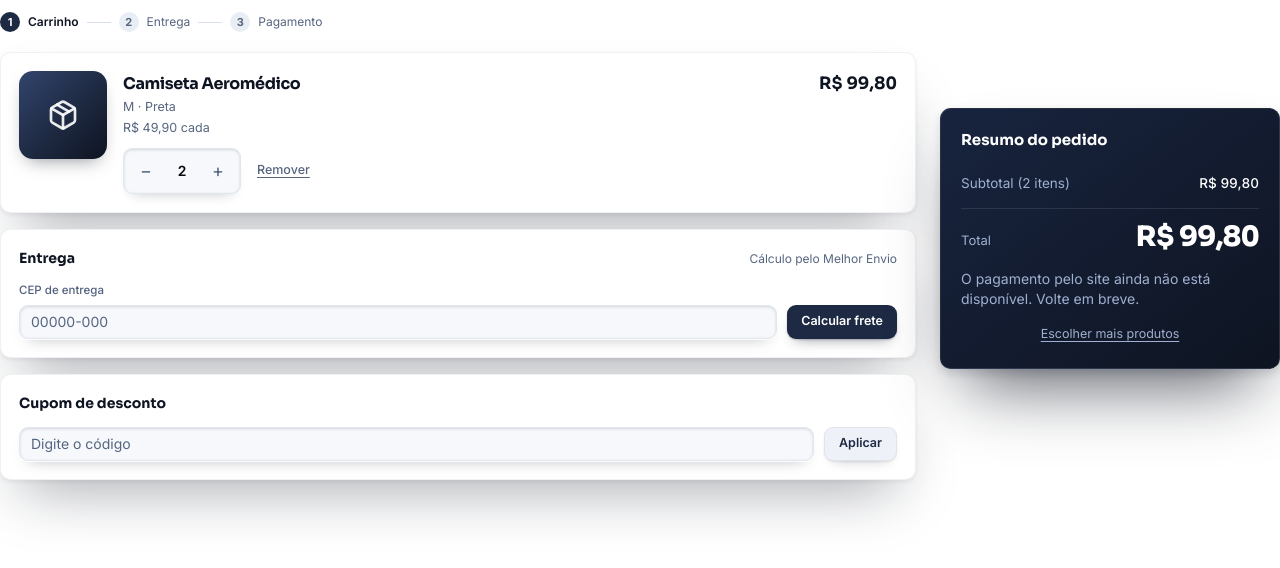
Scenario: CartView com cupom › há campo de cupom e botão Aplicar quando o carrinho tem itens
The width and height of the screenshot is (1280, 568).
Expected: the link "Camiseta Aeromédico" is shown, x1=123 y1=73 x2=300 y2=94
Expected: the field named "Cupom de desconto" is shown, x1=19 y1=427 x2=814 y2=461
Click the button "Aplicar": (860,444) x1=824 y1=427 x2=897 y2=461
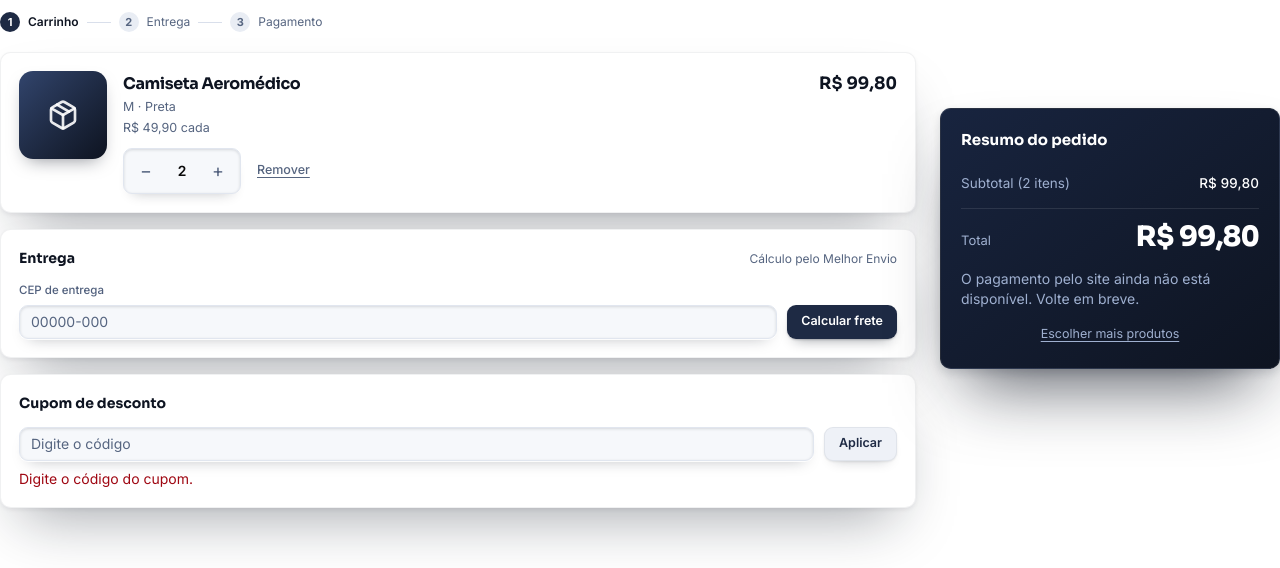
Result: the message reads "Digite o código do cupom." at x1=19 y1=470 x2=193 y2=487
